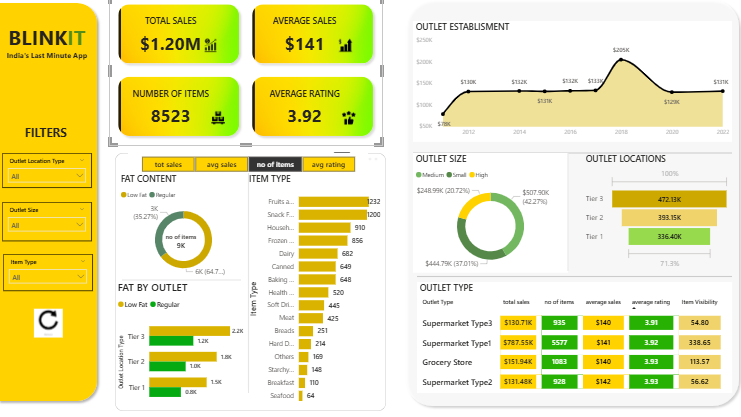

What the dashboard file says about the page in this screenshot:
{"tool":"powerbi","page":{"name":"Page 1","canvas":[1400,800],"ordinal":0},"visuals":[{"type":"shape","box":[0,5.5,200.3,749.6],"z":0},{"type":"textbox","box":[16.5,47.8,165.4,69.8],"z":1000},{"type":"textbox","box":[16.5,97.4,165.4,38.6],"z":2000},{"type":"cardVisual","fields":{"Data":["BlinkIT Grocery Data.tot sales","BlinkIT Grocery Data.avg sales","BlinkIT Grocery Data.no of items","BlinkIT Grocery Data.avg rating"]},"box":[213.1,0,503.4,277.4],"z":3000},{"type":"shape","box":[224.1,290.3,497.9,474],"z":4000},{"type":"donutChart","title":"FAT CONTENT","fields":{"Y":["BlinkIT Grocery Data.no of items"],"Category":["BlinkIT Grocery Data.Item Fat Content"]},"box":[229.7,327,240.7,196.6],"z":5000},{"type":"slicer","fields":{"Values":["metrics.metrics"]},"box":[248,290.3,440.9,40.4],"z":6000},{"type":"cardVisual","fields":{"Data":["BlinkIT Grocery Data.no of items"]},"box":[284.8,396.9,121.3,110.2],"z":7000},{"type":"clusteredBarChart","title":"FAT BY OUTLET","fields":{"Y":["BlinkIT Grocery Data.no of items"],"Category":["BlinkIT Grocery Data.Outlet Location Type"],"Series":["BlinkIT Grocery Data.Item Fat Content"]},"box":[224.1,523.6,240.7,240.7],"z":8000},{"type":"shape","box":[237,507.1,218.6,33.1],"z":9000},{"type":"barChart","title":"ITEM TYPE","fields":{"Category":["BlinkIT Grocery Data.Item Type"],"Y":["BlinkIT Grocery Data.no of items"]},"box":[464.8,327,251.7,433.6],"z":10000},{"type":"shape","box":[749.6,0,630.2,764.3],"z":11000},{"type":"lineChart","title":"OUTLET ESTABLISMENT","fields":{"Y":["BlinkIT Grocery Data.tot sales"],"Category":["BlinkIT Grocery Data.Outlet Establishment Year"]},"box":[771.7,47.8,586.1,222.3],"z":12000},{"type":"shape","box":[771.7,270.1,586.1,40.4],"z":13000},{"type":"donutChart","title":"OUTLET SIZE","fields":{"Y":["BlinkIT Grocery Data.tot sales"],"Category":["BlinkIT Grocery Data.Outlet Size"]},"box":[771.7,290.3,284.8,220.5],"z":14000},{"type":"shape","box":[465.6,337,9.2,395],"z":15000},{"type":"shape","box":[1047.2,290.3,18.4,216.8],"z":16000},{"type":"shape","box":[464.8,327,9.2,395],"z":17000},{"type":"funnel","title":"OUTLET LOCATIONS","fields":{"Y":["Sum(BlinkIT Grocery Data.Sales)"],"Category":["BlinkIT Grocery Data.Outlet Location Type"]},"box":[1084,290.3,273.8,216.8],"z":18000},{"type":"shape","box":[779,494.2,578.7,45.9],"z":19000},{"type":"pivotTable","title":"OUTLET TYPE","fields":{"Rows":["BlinkIT Grocery Data.Outlet Type"],"Values":["BlinkIT Grocery Data.tot sales","BlinkIT Grocery Data.no of items","BlinkIT Grocery Data.avg sales","BlinkIT Grocery Data.avg rating","Sum(BlinkIT Grocery Data.Item Visibility)"]},"box":[779,527.3,578.7,203.9],"z":20000},{"type":"slicer","fields":{"Values":["BlinkIT Grocery Data.Outlet Location Type"]},"box":[16.5,290.3,165.4,64.3],"z":21000},{"type":"slicer","fields":{"Values":["BlinkIT Grocery Data.Outlet Size"]},"box":[16.5,380.3,165.4,71.7],"z":22000},{"type":"slicer","fields":{"Values":["BlinkIT Grocery Data.Item Type"]},"box":[18.4,475.9,165.4,68],"z":23000},{"type":"textbox","box":[53.3,233.3,102.9,57],"z":24000},{"type":"actionButton","title":"GFSD","box":[66.1,560.4,71.7,84.5],"z":25000}]}

Visuals, with their boxes in screenshot pixels (x1, y1, x2, y2), scaled from the page's 1400x800 canvas onto the 741x417 screenshot:
shape: l=0, t=3, r=106, b=394
textbox: l=9, t=25, r=96, b=61
textbox: l=9, t=51, r=96, b=71
cardVisual - BlinkIT Grocery Data.tot sales x BlinkIT Grocery Data.avg sales: l=113, t=0, r=379, b=145
shape: l=119, t=151, r=382, b=398
"FAT CONTENT" donutChart: l=122, t=170, r=249, b=273
slicer - metrics.metrics: l=131, t=151, r=365, b=172
cardVisual - BlinkIT Grocery Data.no of items: l=151, t=207, r=215, b=264
"FAT BY OUTLET" clusteredBarChart: l=119, t=273, r=246, b=398
shape: l=125, t=264, r=241, b=282
"ITEM TYPE" barChart: l=246, t=170, r=379, b=396
shape: l=397, t=0, r=730, b=398
"OUTLET ESTABLISMENT" lineChart: l=408, t=25, r=719, b=141
shape: l=408, t=141, r=719, b=162
"OUTLET SIZE" donutChart: l=408, t=151, r=559, b=266
shape: l=246, t=176, r=251, b=382
shape: l=554, t=151, r=564, b=264
shape: l=246, t=170, r=251, b=376
"OUTLET LOCATIONS" funnel: l=574, t=151, r=719, b=264
shape: l=412, t=258, r=719, b=282
"OUTLET TYPE" pivotTable: l=412, t=275, r=719, b=381
slicer - BlinkIT Grocery Data.Outlet Location Type: l=9, t=151, r=96, b=185
slicer - BlinkIT Grocery Data.Outlet Size: l=9, t=198, r=96, b=236
slicer - BlinkIT Grocery Data.Item Type: l=10, t=248, r=97, b=284
textbox: l=28, t=122, r=83, b=151
"GFSD" actionButton: l=35, t=292, r=73, b=336
